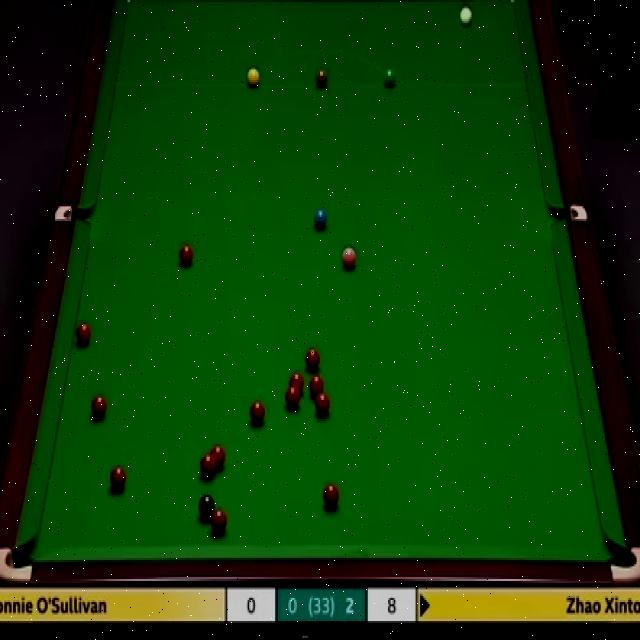black-ball: (198, 491, 216, 524)
blue-ball: (314, 207, 330, 232)
brown-ball: (315, 68, 329, 90)
green-ball: (381, 68, 395, 90)
pink-ball: (340, 242, 360, 271)
red-ball: (210, 510, 229, 538), (198, 453, 217, 480), (303, 345, 322, 372), (109, 464, 127, 492), (90, 392, 107, 421), (74, 320, 92, 347), (250, 402, 267, 427), (322, 484, 339, 509), (284, 386, 301, 411), (178, 242, 195, 266), (288, 372, 305, 394), (315, 392, 330, 416), (211, 444, 227, 466), (312, 377, 328, 396)
white-ball: (458, 3, 474, 31)
yellow-ball: (247, 66, 260, 88)
